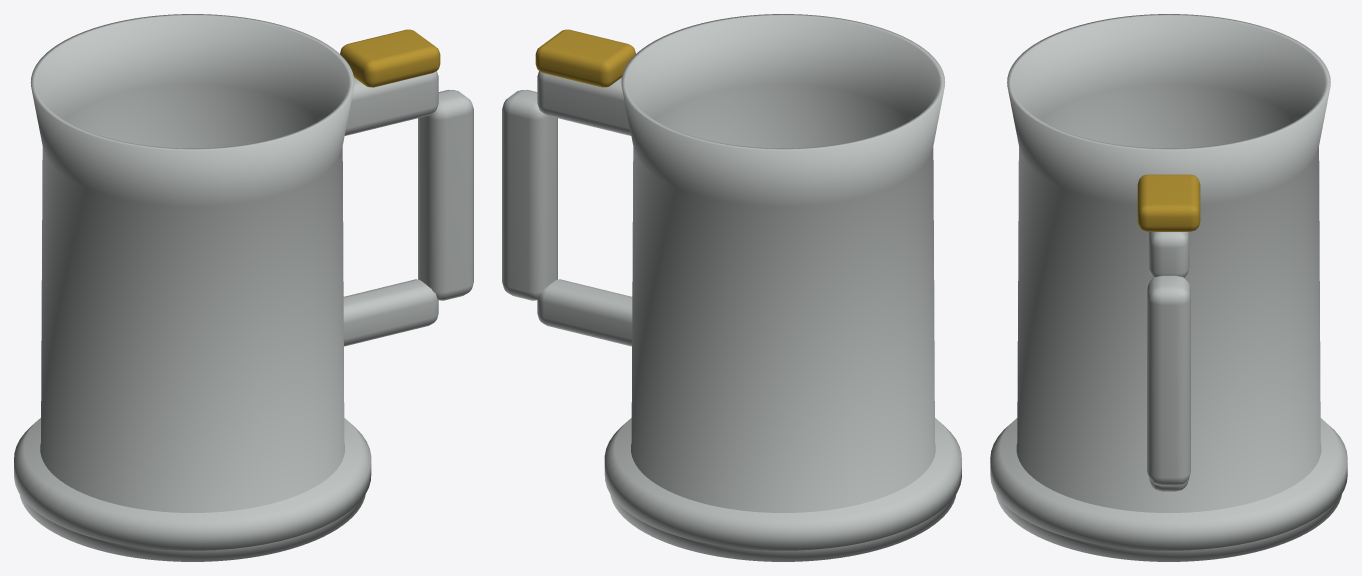
The model's file is pantry_contents__metal_tankard.glb.
3 renders of one model, left to right at view 1: azimuth 30°, elevation 25°; view 2: azimuth 150°, elevation 25°; view 3: azimuth 270°, elevation 25°, orthographic.
Visible parts, largest first — view 1: metal_tankard__body; view 2: metal_tankard__body; view 3: metal_tankard__body.
Boxes of the visible parts, x1,y1,x2,y2 form: metal_tankard__body: [14, 14, 473, 561]; metal_tankard__body: [502, 14, 961, 561]; metal_tankard__body: [990, 14, 1347, 561].
Size of the model in its own units: 0.1353 by 0.122 by 0.0973.
